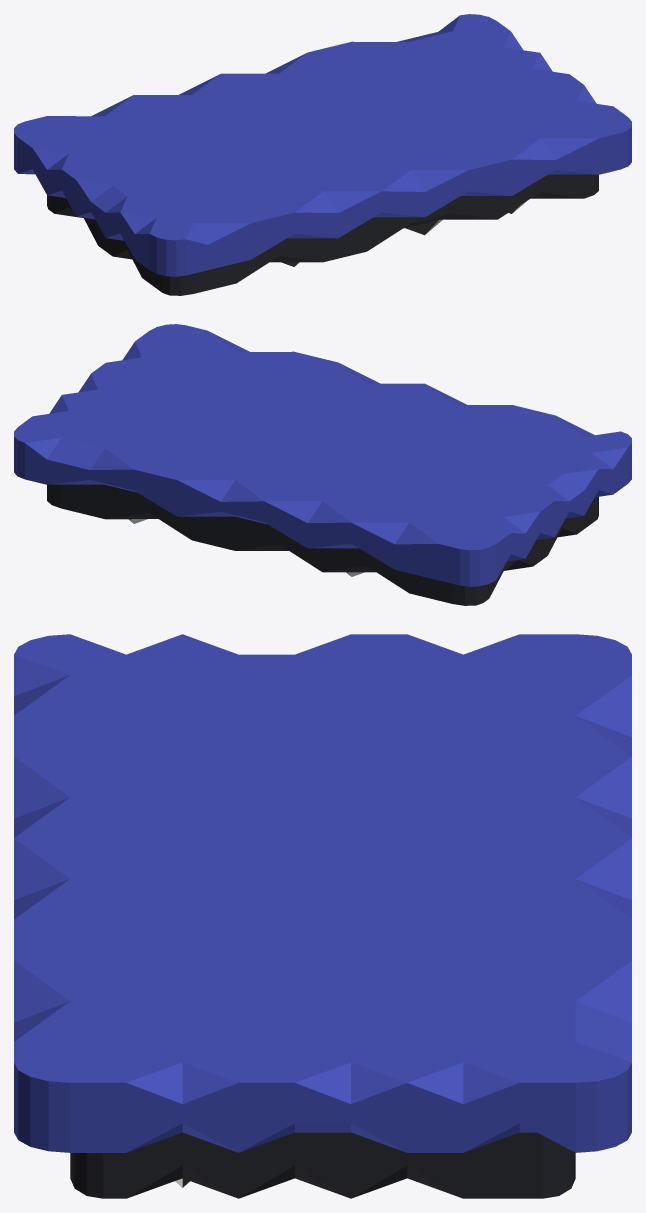
File: Floor_Break.obj
The picture shows the model from 3 angles, top to bottom: view 1: azimuth 30°, elevation 25°; view 2: azimuth 150°, elevation 25°; view 3: azimuth 270°, elevation 25°; orthographic projection. The views are drawn at different scales.
Visible parts, largest first — view 1: Cube; view 2: Cube; view 3: Cube.
Part boxes in pixels (box(x1,y1,x2,y2)): Cube: box(14, 14, 631, 295); Cube: box(14, 324, 631, 605); Cube: box(14, 634, 631, 1198).
Bounding box in the file's own units: 13.85 × 2.69 × 8.07.
Materials: 1 (1 with a texture image).
